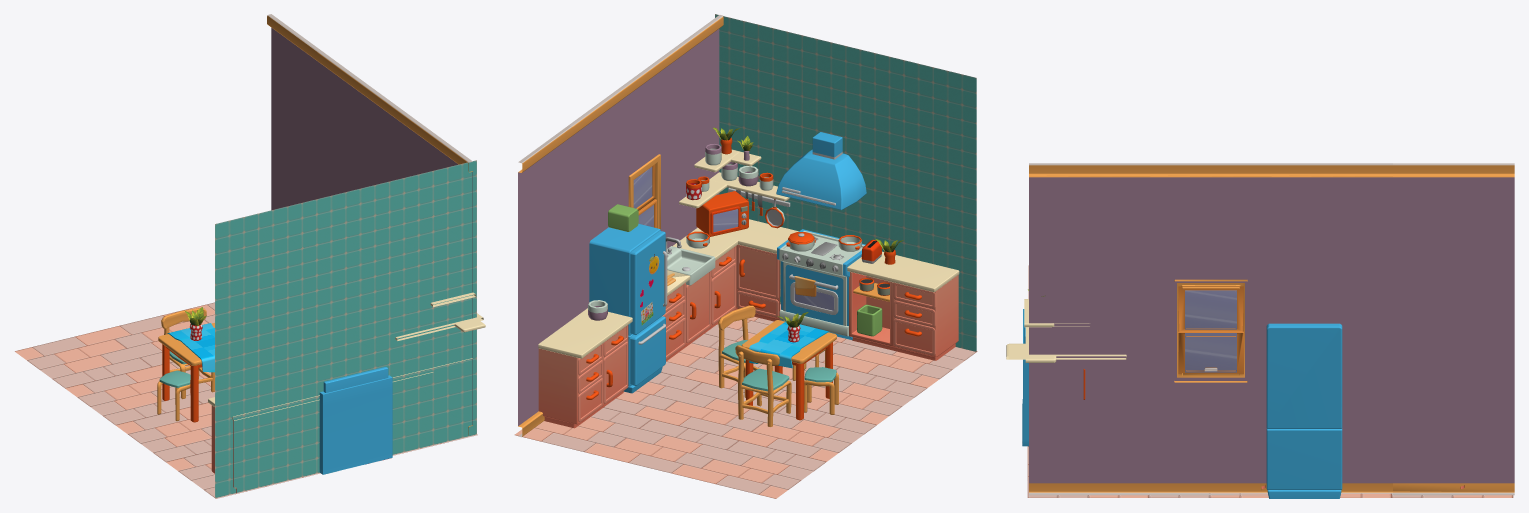
The model's file is Kitchen.fbx.
3 views of the same model, side by side, from view 1: azimuth 30°, elevation 25°; view 2: azimuth 150°, elevation 25°; view 3: azimuth 270°, elevation 25° (orthographic). The views are drawn at different scales.
Parts seen in each view (by area): view 1: Kitchen.005, Kitchen.001, Kitchen, Kitchen.003, Kitchen.004; view 2: Kitchen, Kitchen.005, Kitchen.001, Kitchen.003, Kitchen.004; view 3: Kitchen.003, Kitchen.004, Kitchen, Kitchen.001, Kitchen.002.
Boxes of the visible parts, bbox=[...] form: Kitchen.005: bbox=[215, 160, 476, 497]; Kitchen.001: bbox=[15, 302, 477, 498]; Kitchen: bbox=[157, 171, 485, 493]; Kitchen.003: bbox=[267, 15, 472, 425]; Kitchen.004: bbox=[267, 15, 321, 210]; Kitchen: bbox=[520, 127, 959, 434]; Kitchen.005: bbox=[715, 14, 976, 351]; Kitchen.001: bbox=[514, 304, 977, 498]; Kitchen.003: bbox=[521, 15, 723, 321]; Kitchen.004: bbox=[518, 127, 572, 425]; Kitchen.003: bbox=[1029, 163, 1392, 483]; Kitchen.004: bbox=[1393, 165, 1514, 483]; Kitchen: bbox=[1006, 175, 1506, 498]; Kitchen.001: bbox=[1027, 446, 1513, 497]; Kitchen.002: bbox=[1393, 483, 1514, 495].
Bounding box in the file's own units: 306 × 300 × 419.
